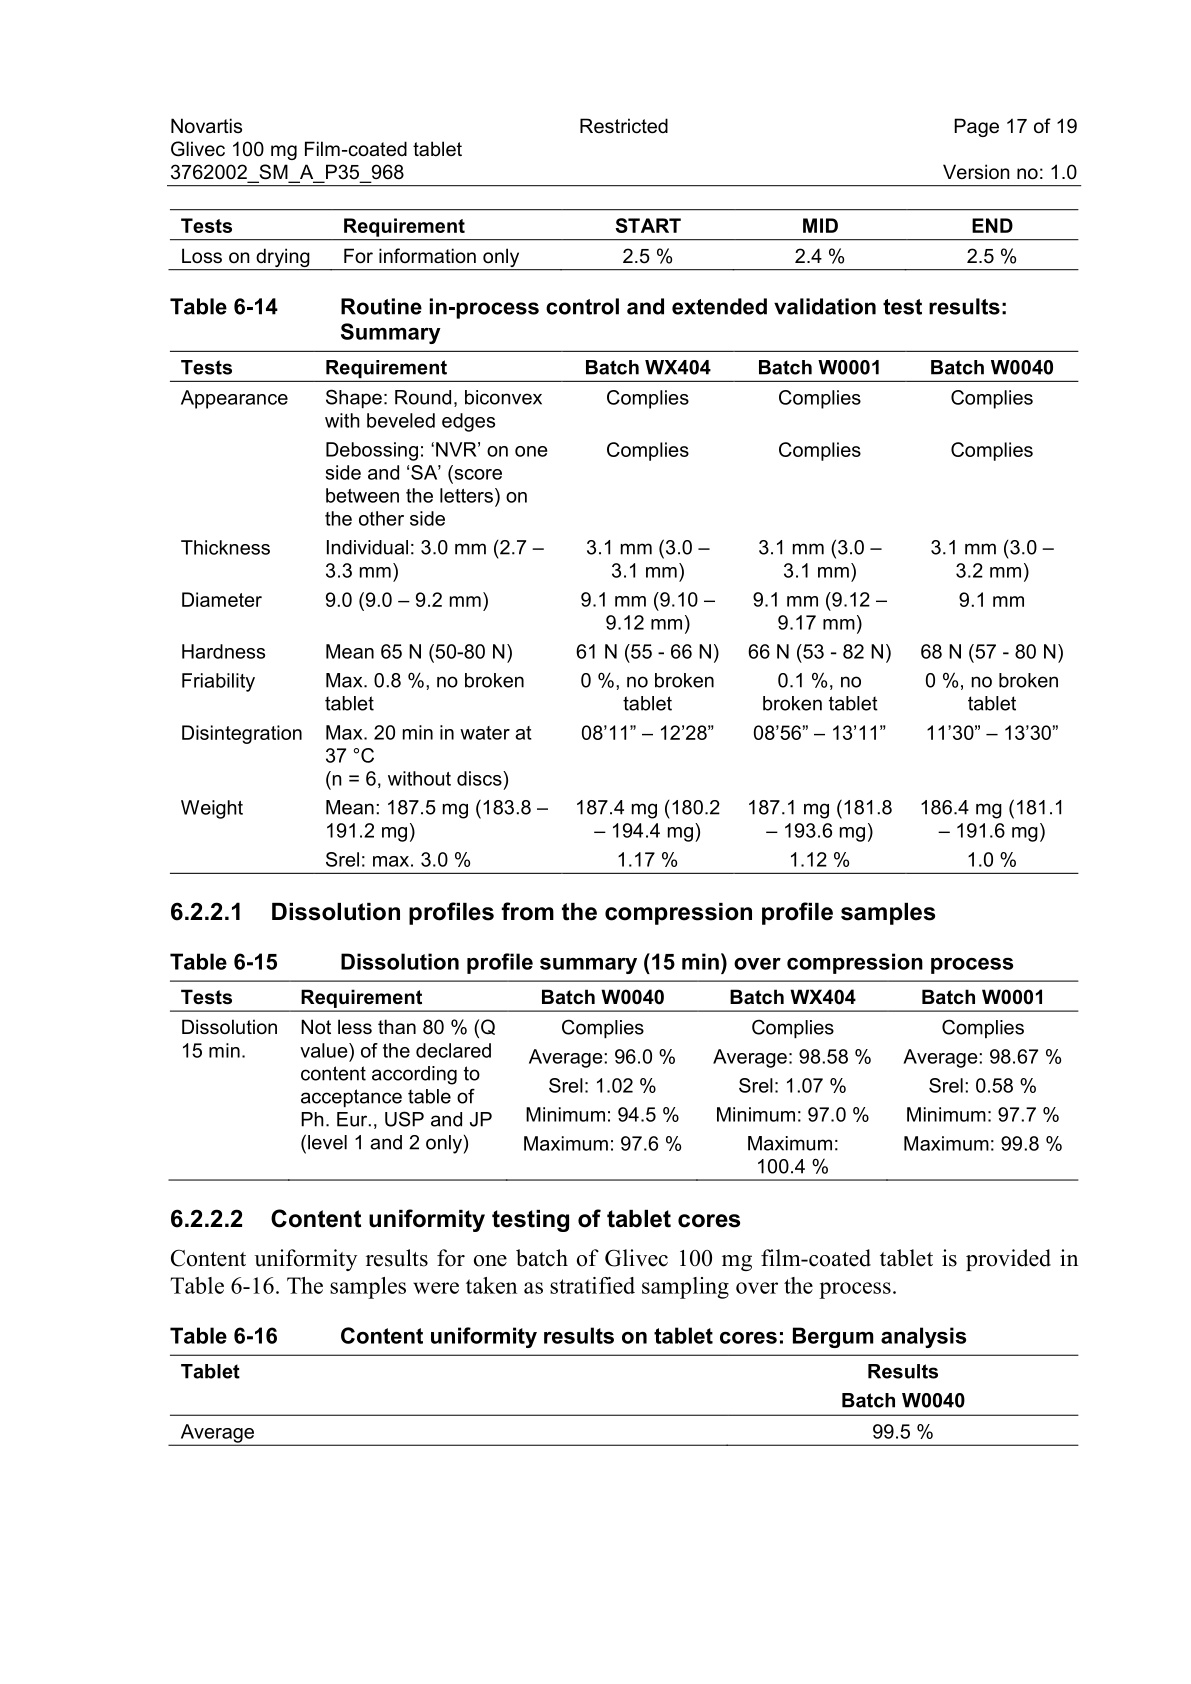partial_lined: (168, 349, 1080, 875), (168, 979, 1079, 1182), (169, 1353, 1078, 1447), (168, 207, 1079, 271)
